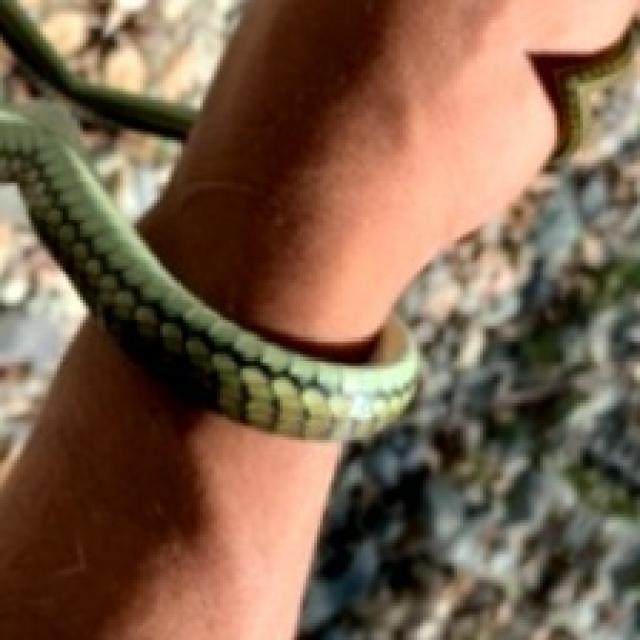philippine bronzeback treesnake: (0, 106, 417, 437), (0, 0, 194, 137)
